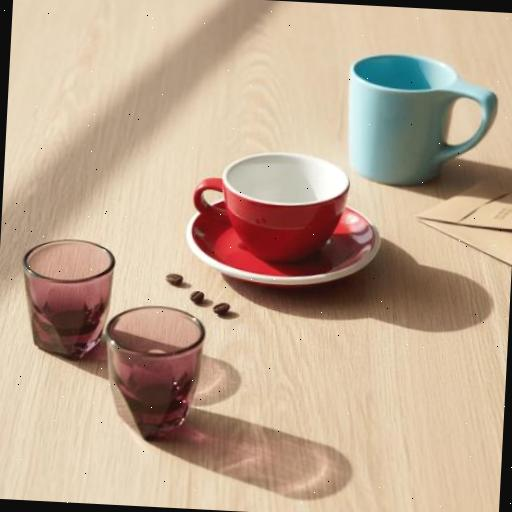cup: (190, 146, 352, 267)
